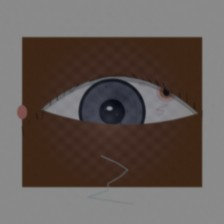foreign_body_visible: (144, 73, 189, 110)
